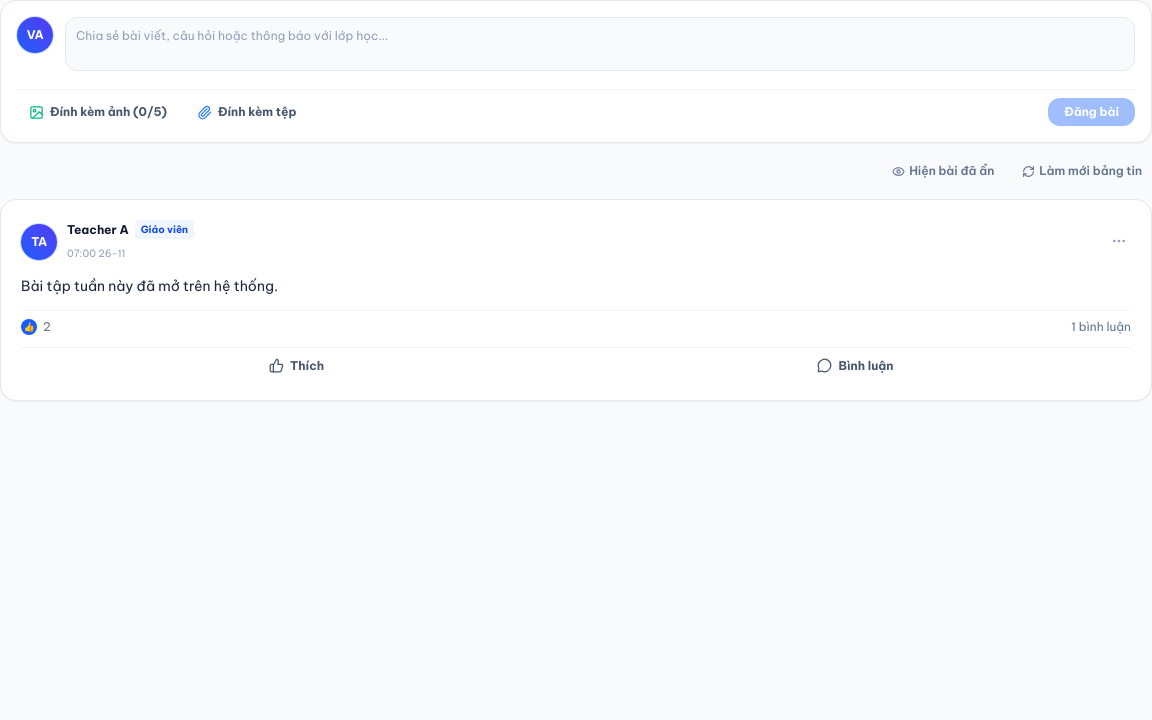
Test case: ClassFeedView › hỗ trợ thích bài viết, bình luận cấp 1, phản hồi cấp 2 và thích bình luận qua API
Later steps or results of the test are not shown.
Expected: the text "Bài tập tuần này đã mở trên hệ thống." is shown, [21,277,278,295]
Thích bài viết
Click the button "Thích". click: (296, 366)
box: [21,352,572,380]
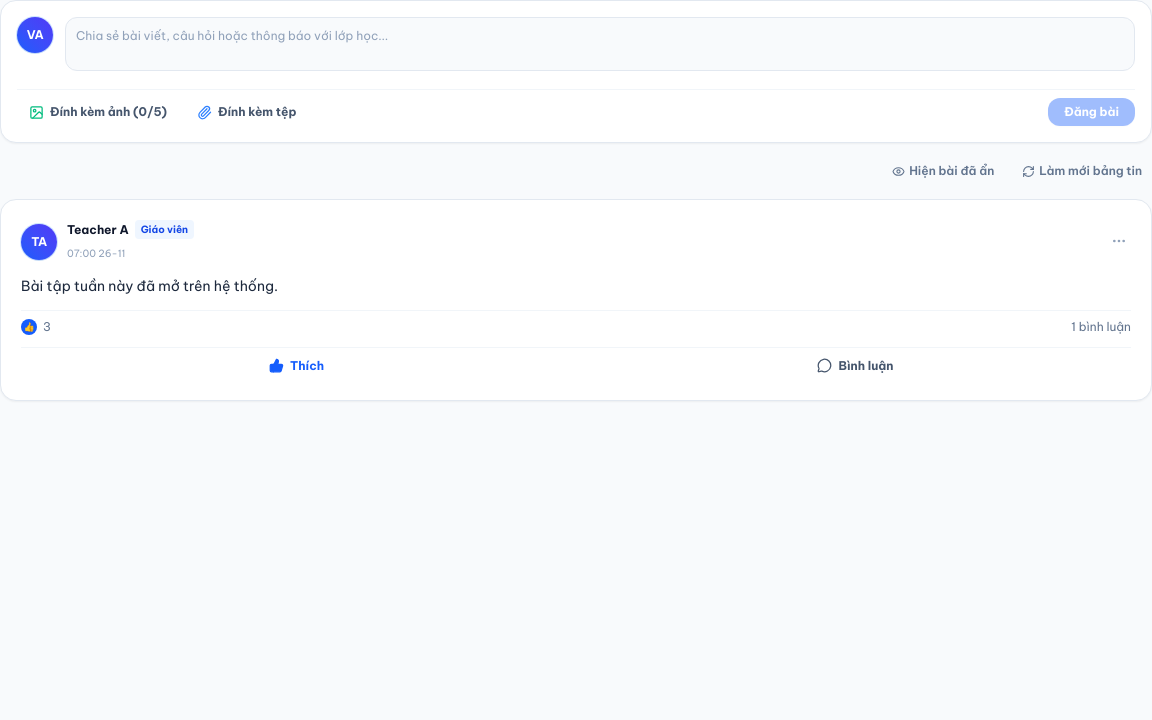
Now the text "3" is shown, box [43,319,51,335]
Mở modal chi tiết bài viết và thêm bình luận cấp 1
Click the button "Bình luận". click: (856, 366)
box: [580,352,1131,380]
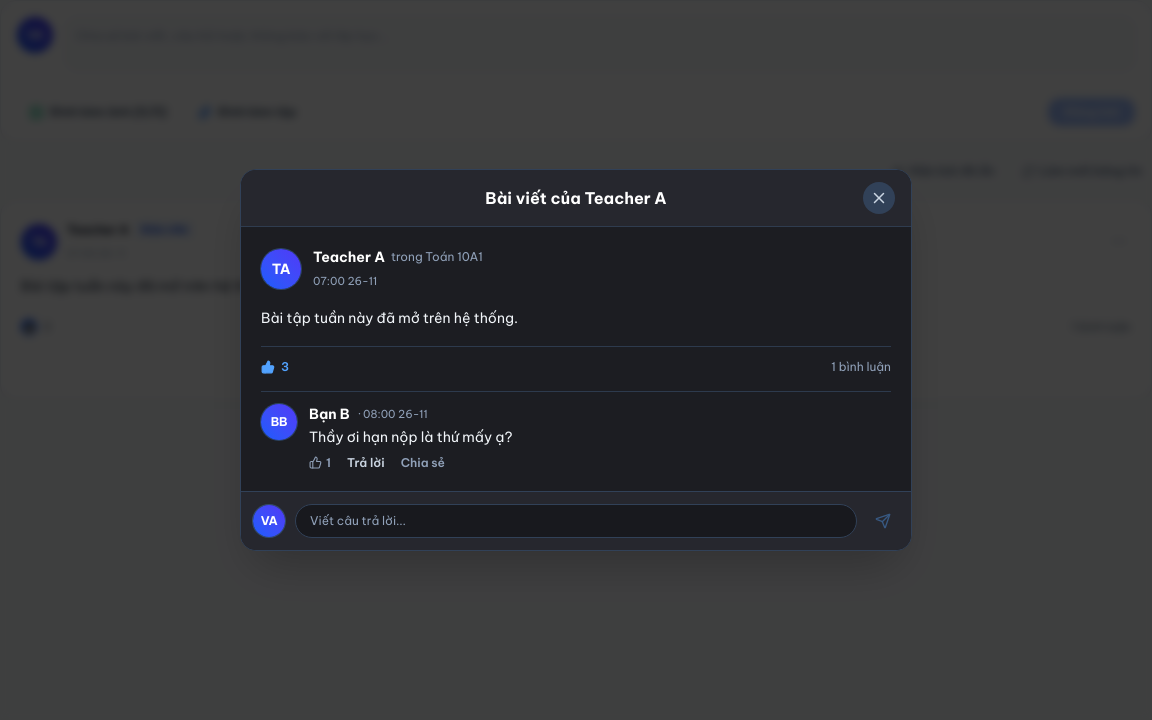
Now the text "Thầy ơi hạn nộp là thứ mấy ạ?" is shown, box [309,428,512,446]
Type "Cảm ơn thầy ạ!" into the field labelled "Viết câu trả lời". click: (576, 521)
box: [295,504,857,538]
Click the button named "Gửi bình luận". click: (883, 521)
box: [867,505,899,537]
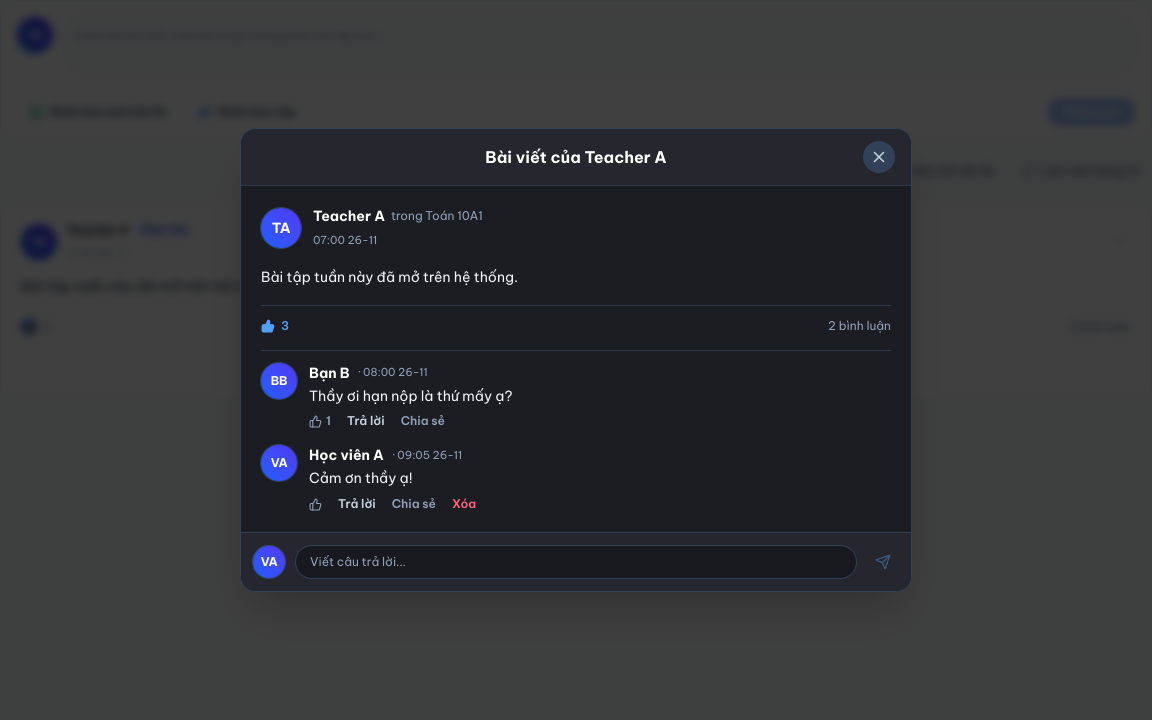
Now the text "Cảm ơn thầy ạ!" is shown, box [309,469,413,487]
Trả lời bình luận cấp 1 tạo phản hồi cấp 2 gắn @Bạn B
Click the button "Trả lời" below "Thầy ơi hạn nộp là thứ mấy ạ?". click: (366, 421)
box: [347,413,385,429]
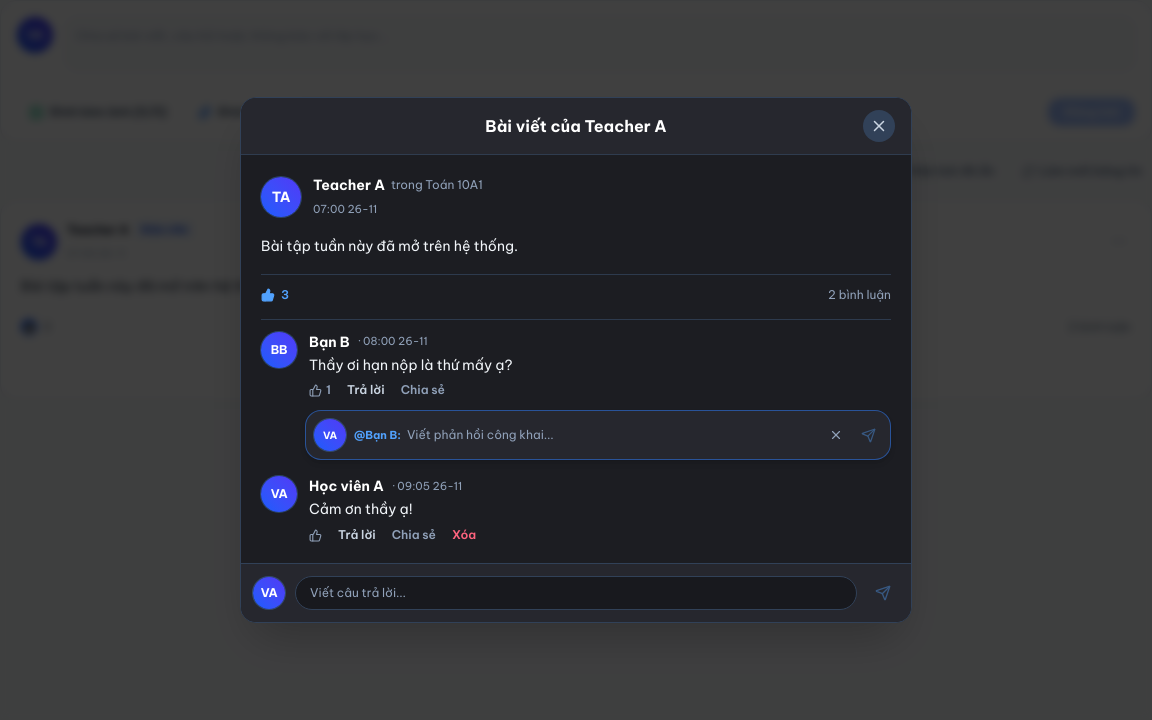
Type "Hạn nộp tối thứ Sáu bạn nhé" into the field labelled "Viết phản hồi công khai". click: (612, 435)
box: [407,427,817,443]
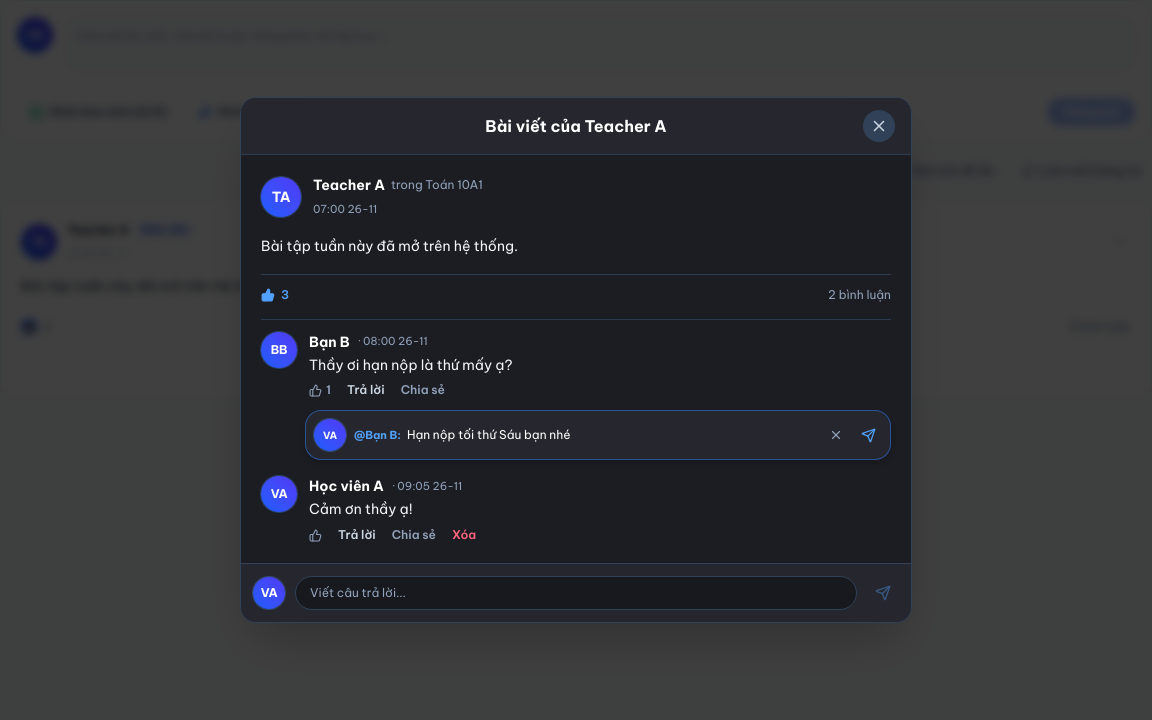
Click the button named "Gửi phản hồi". click: (868, 435)
box: [855,422,882,449]
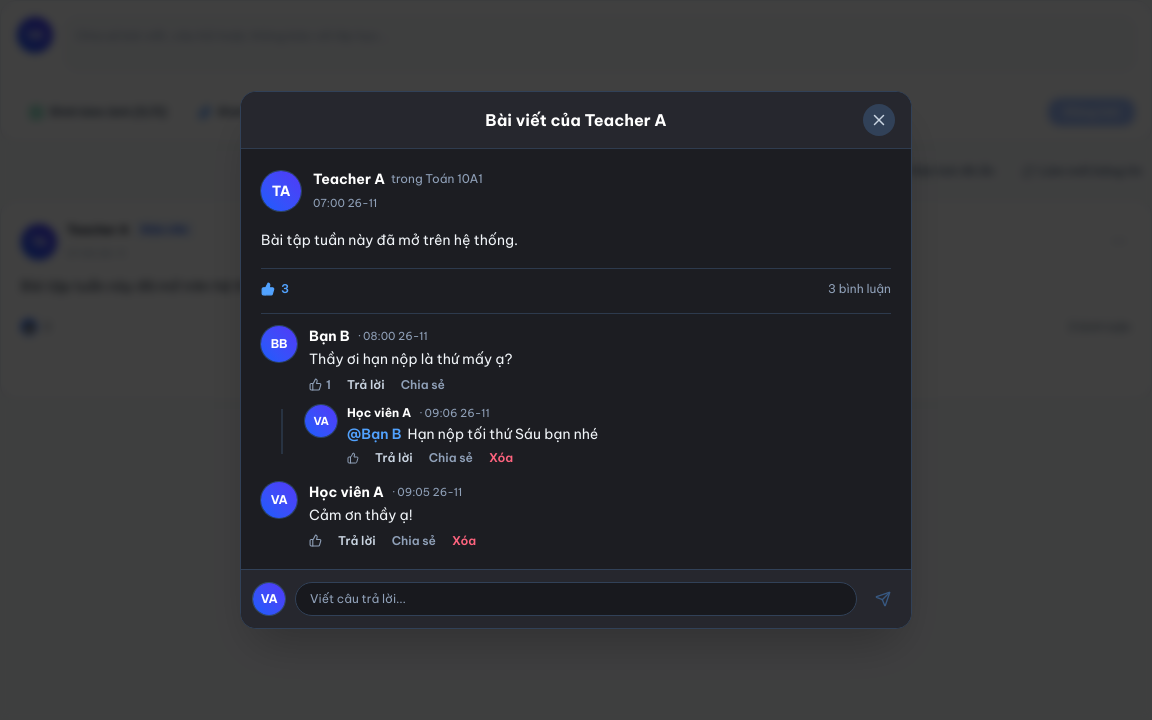
Now the text "@Bạn B" is shown, box [347,425,402,443]
Now the text "Hạn nộp tối thứ Sáu bạn nhé" is shown, box [408,425,598,443]
